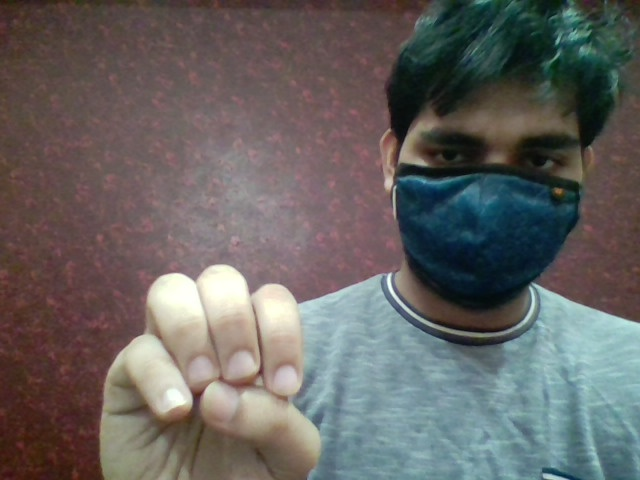e: (89, 261, 324, 474)
